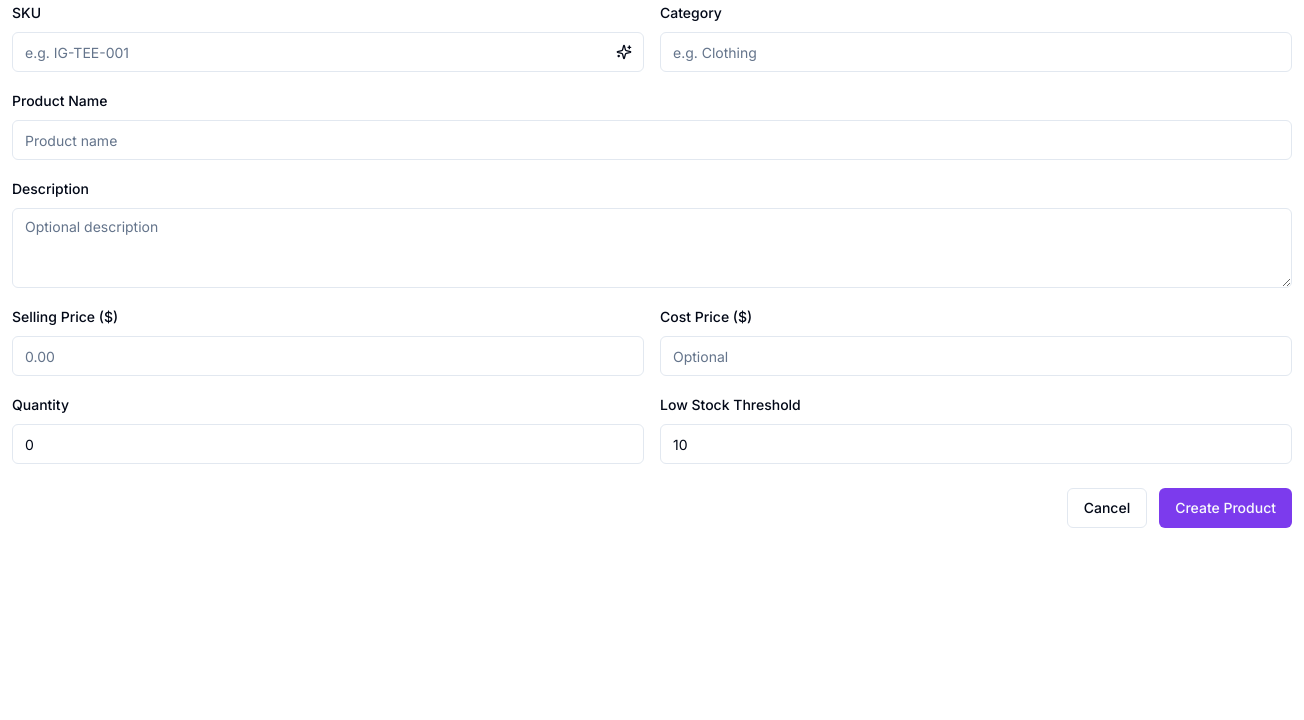
Test: ProductForm › shows validation errors for empty required fields
Step 1. Click the button "Create Product" → (1226, 508), box [1159,488,1292,528]
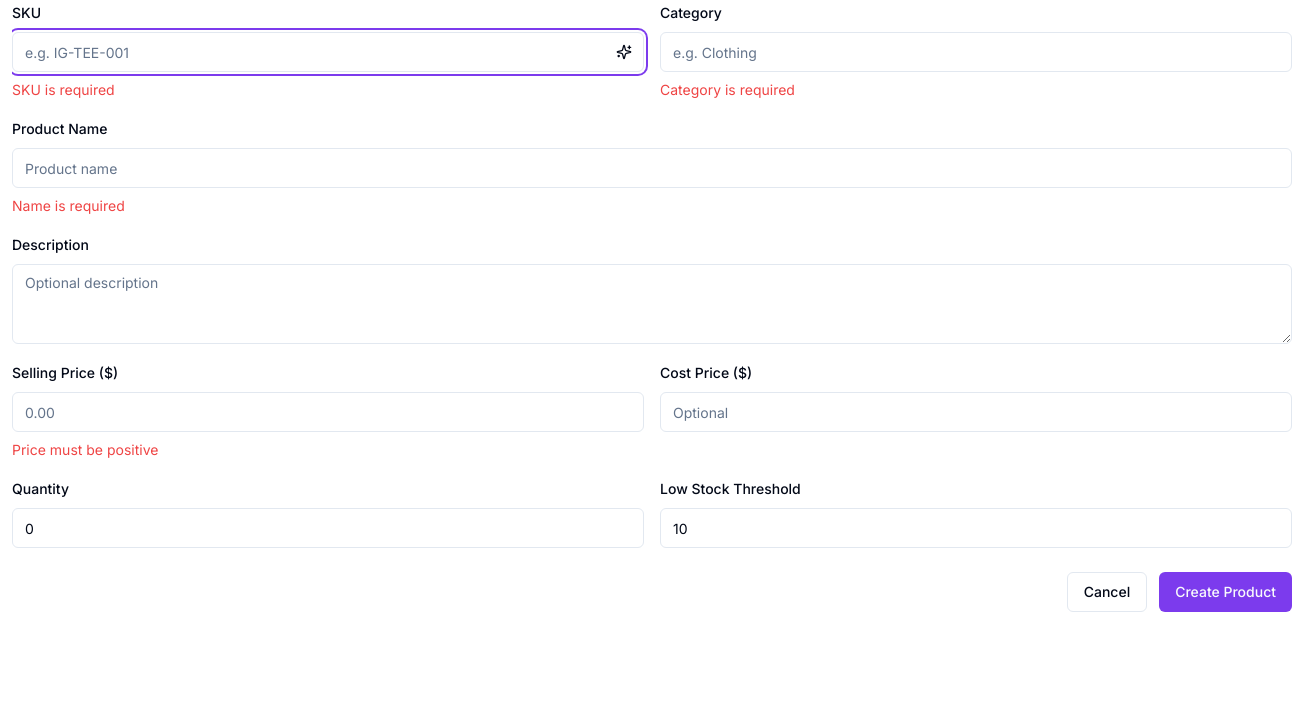
Check: the text "SKU is required" is shown, box [12,81,115,98]
Check: the text "Name is required" is shown, box [12,197,125,214]
Check: the text "Category is required" is shown, box [660,81,795,98]
